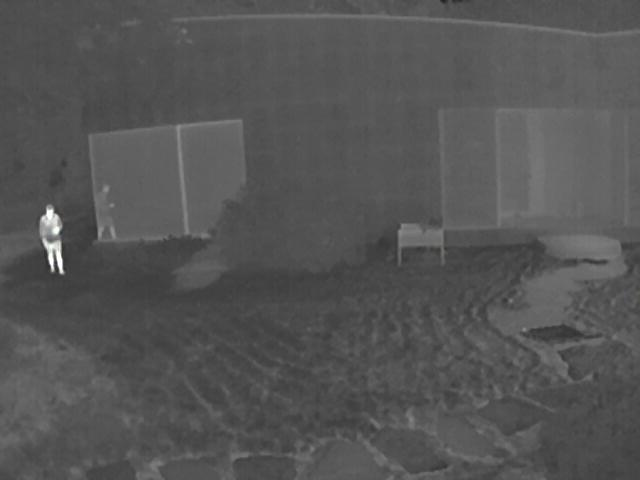person: (39, 204, 68, 276), (96, 180, 120, 243)
